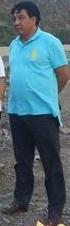boots: (1, 202, 27, 214), (0, 165, 8, 178)
